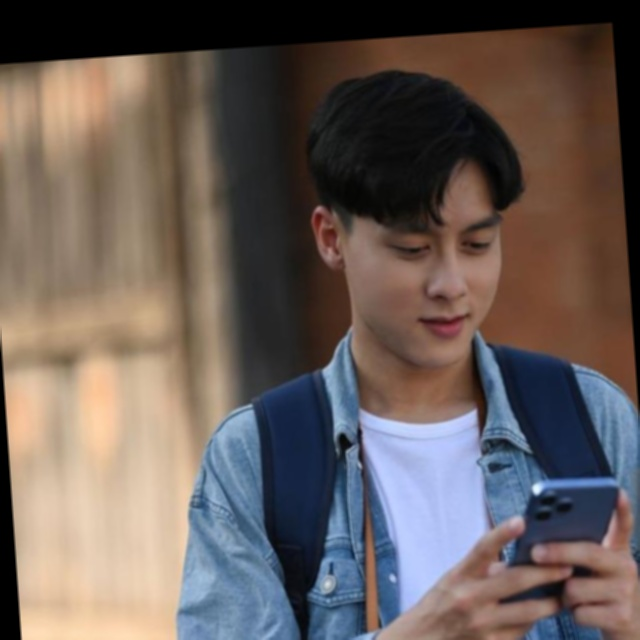Sin_Casco_Mascarrilla: (304, 62, 539, 378)
